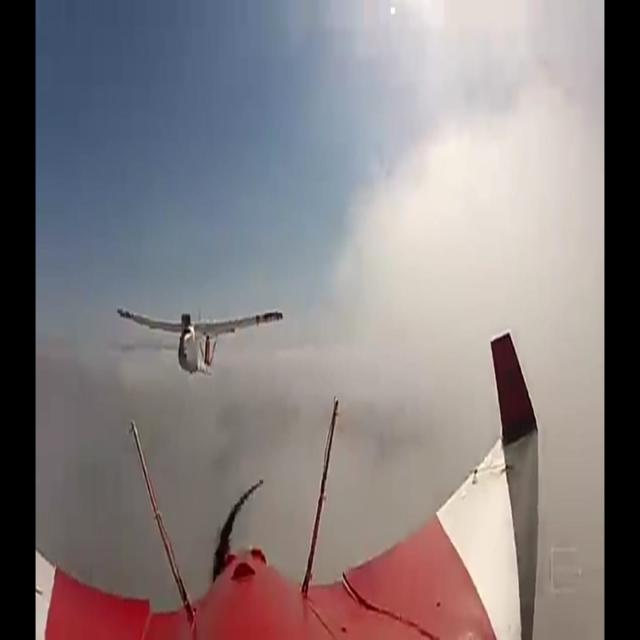iha: (108, 335, 277, 347)
